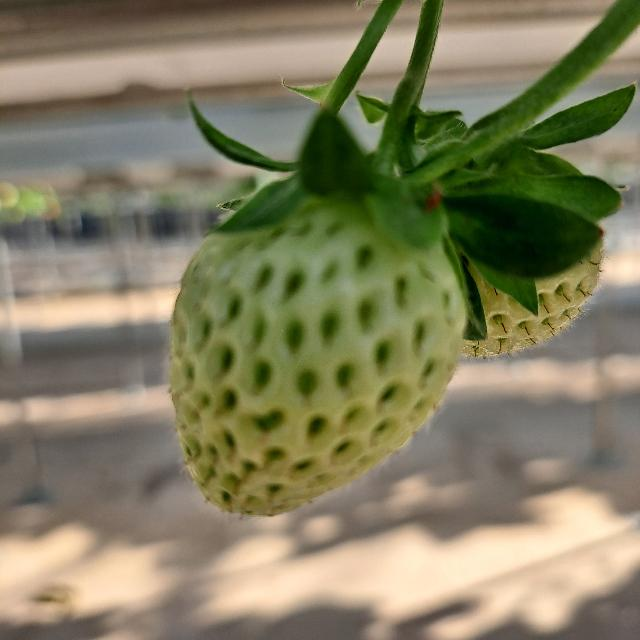Health_25: (170, 207, 464, 515), (426, 142, 602, 368)
